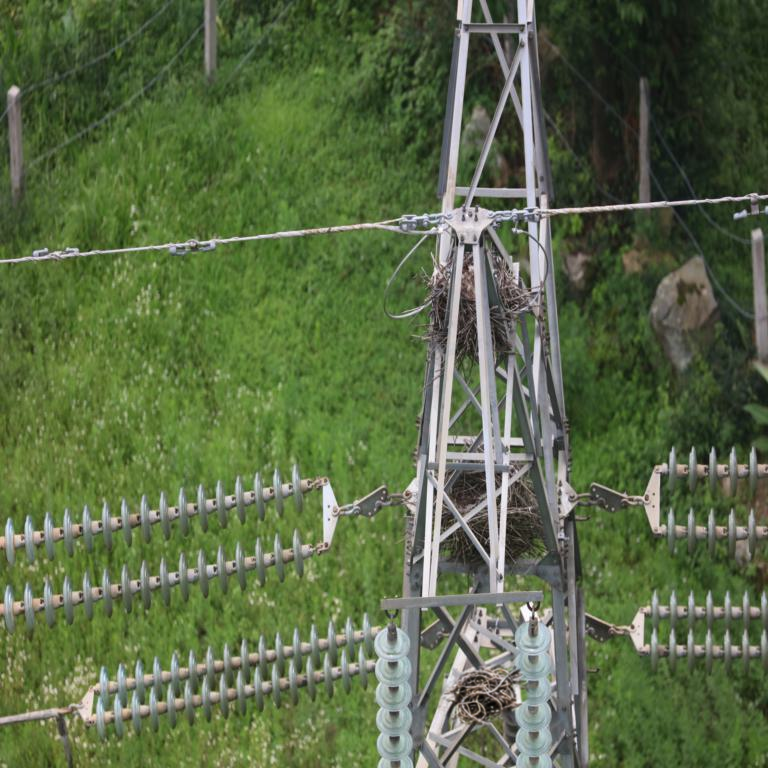nest: (440, 458, 539, 570), (428, 263, 514, 357), (456, 666, 507, 721)
